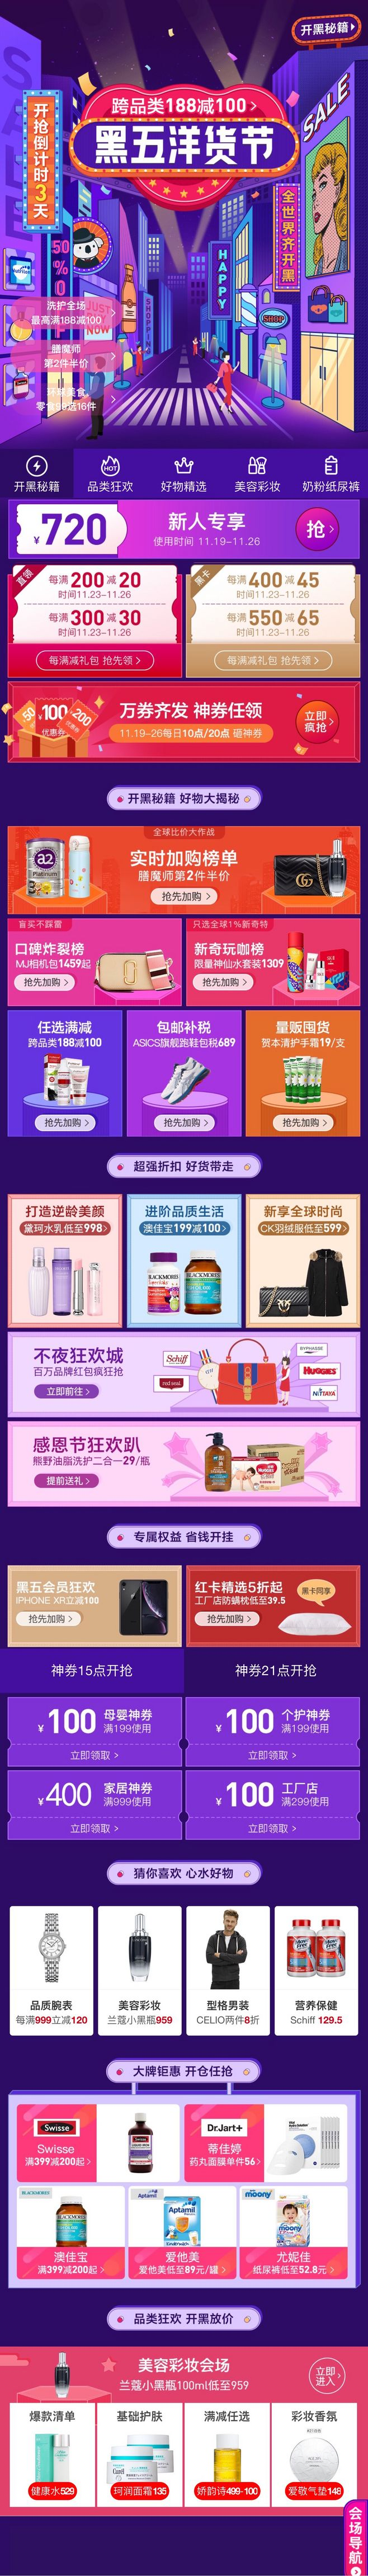floors: (0, 782, 368, 1140), (0, 1155, 368, 1508), (0, 1523, 368, 1842), (0, 498, 368, 766), (0, 2058, 368, 2290), (0, 2303, 368, 2518), (0, 1858, 368, 2039)
toutu: (0, 2, 368, 440)
